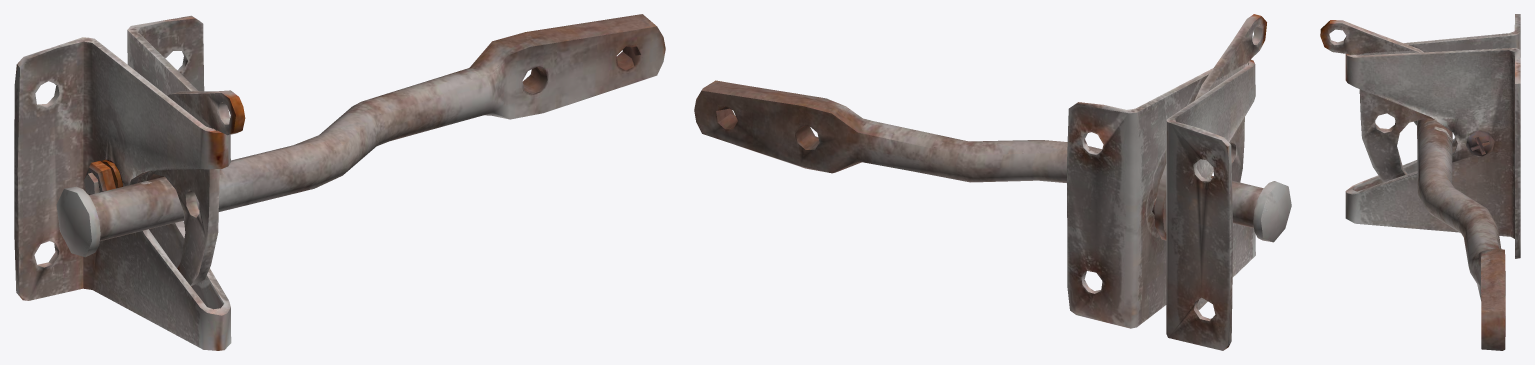
Rendered from gate_latch_01.glb.
3 renders of one model, left to right at view 1: azimuth 30°, elevation 25°; view 2: azimuth 150°, elevation 25°; view 3: azimuth 270°, elevation 25°, orthographic. The views are drawn at different scales.
Visible parts, largest first — view 1: gate_latch_01; view 2: gate_latch_01; view 3: gate_latch_01.
Part boxes in pixels (x1,y1,x2,y2): gate_latch_01: [14, 14, 665, 350]; gate_latch_01: [694, 14, 1291, 350]; gate_latch_01: [1320, 14, 1520, 350].
Size of what is drawn, in the model's own units: 0.2049 by 0.0853 by 0.0749.
1 material, 1 textured.
